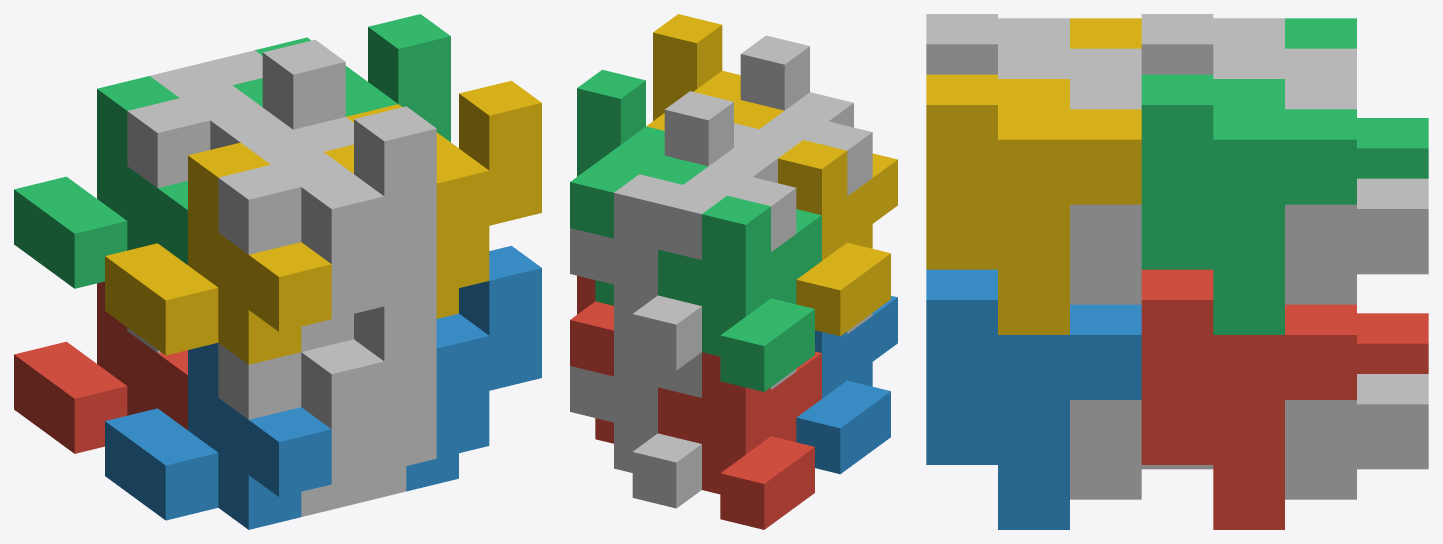
The model's file is tiling.obj.
3 views of the same model, side by side, from view 1: azimuth 30°, elevation 25°; view 2: azimuth 150°, elevation 25°; view 3: azimuth 270°, elevation 25° (orthographic). The views are drawn at different scales.
Visible parts, largest first — view 1: copy_2_domain_4, copy_1_domain_4, copy_1_domain_2, copy_2_domain_2, copy_1_domain_3, copy_2_domain_8, copy_2_domain_3, copy_2_domain_6, copy_1_domain_1, copy_2_domain_7, copy_1_domain_6, copy_1_domain_8 (+1 smaller); view 2: copy_1_domain_3, copy_1_domain_1, copy_1_domain_4, copy_1_domain_7, copy_2_domain_3, copy_2_domain_7, copy_1_domain_5, copy_1_domain_2, copy_2_domain_4, copy_2_domain_8, copy_2_domain_5, copy_2_domain_1; view 3: copy_2_domain_7, copy_2_domain_8, copy_2_domain_5, copy_2_domain_6, copy_1_domain_7, copy_1_domain_5, copy_2_domain_3, copy_2_domain_4, copy_1_domain_8, copy_1_domain_6, copy_1_domain_3, copy_1_domain_1 (+1 smaller).
Part boxes in pixels (box(x1,y1,x2,y2)): copy_2_domain_4: box(218, 106, 436, 351); copy_1_domain_4: box(105, 142, 331, 364); copy_1_domain_2: box(105, 343, 331, 529); copy_2_domain_2: box(218, 293, 436, 516); copy_1_domain_3: box(14, 76, 187, 288); copy_2_domain_8: box(324, 80, 541, 318); copy_2_domain_3: box(127, 39, 345, 187); copy_2_domain_6: box(406, 246, 541, 491); copy_1_domain_1: box(14, 281, 187, 453); copy_2_domain_7: box(233, 14, 450, 142); copy_1_domain_6: box(354, 404, 436, 504); copy_1_domain_8: box(293, 117, 436, 306); copy_1_domain_3: box(658, 195, 821, 391); copy_1_domain_1: box(658, 351, 821, 529); copy_1_domain_4: box(778, 140, 897, 336); copy_1_domain_7: box(570, 174, 701, 370); copy_2_domain_3: box(658, 91, 796, 259); copy_2_domain_7: box(570, 69, 707, 305); copy_1_domain_5: box(570, 330, 701, 508); copy_1_domain_2: box(796, 296, 897, 474); copy_2_domain_4: box(734, 35, 872, 196); copy_2_domain_8: box(646, 14, 784, 130); copy_2_domain_5: box(570, 275, 613, 443); copy_2_domain_1: box(658, 352, 796, 397); copy_2_domain_7: box(1141, 74, 1356, 334); copy_2_domain_8: box(926, 74, 1141, 334); copy_2_domain_5: box(1141, 269, 1356, 529); copy_2_domain_6: box(926, 269, 1141, 529); copy_1_domain_7: box(1285, 79, 1428, 304); copy_1_domain_5: box(1285, 374, 1428, 499); copy_2_domain_3: box(1141, 14, 1356, 78); copy_2_domain_4: box(926, 14, 1141, 78); copy_1_domain_8: box(1070, 79, 1141, 304); copy_1_domain_6: box(1070, 400, 1213, 499); copy_1_domain_3: box(1285, 18, 1428, 178); copy_1_domain_1: box(1357, 313, 1428, 373).
Size of the model in its own units: 6 by 7 by 7.
